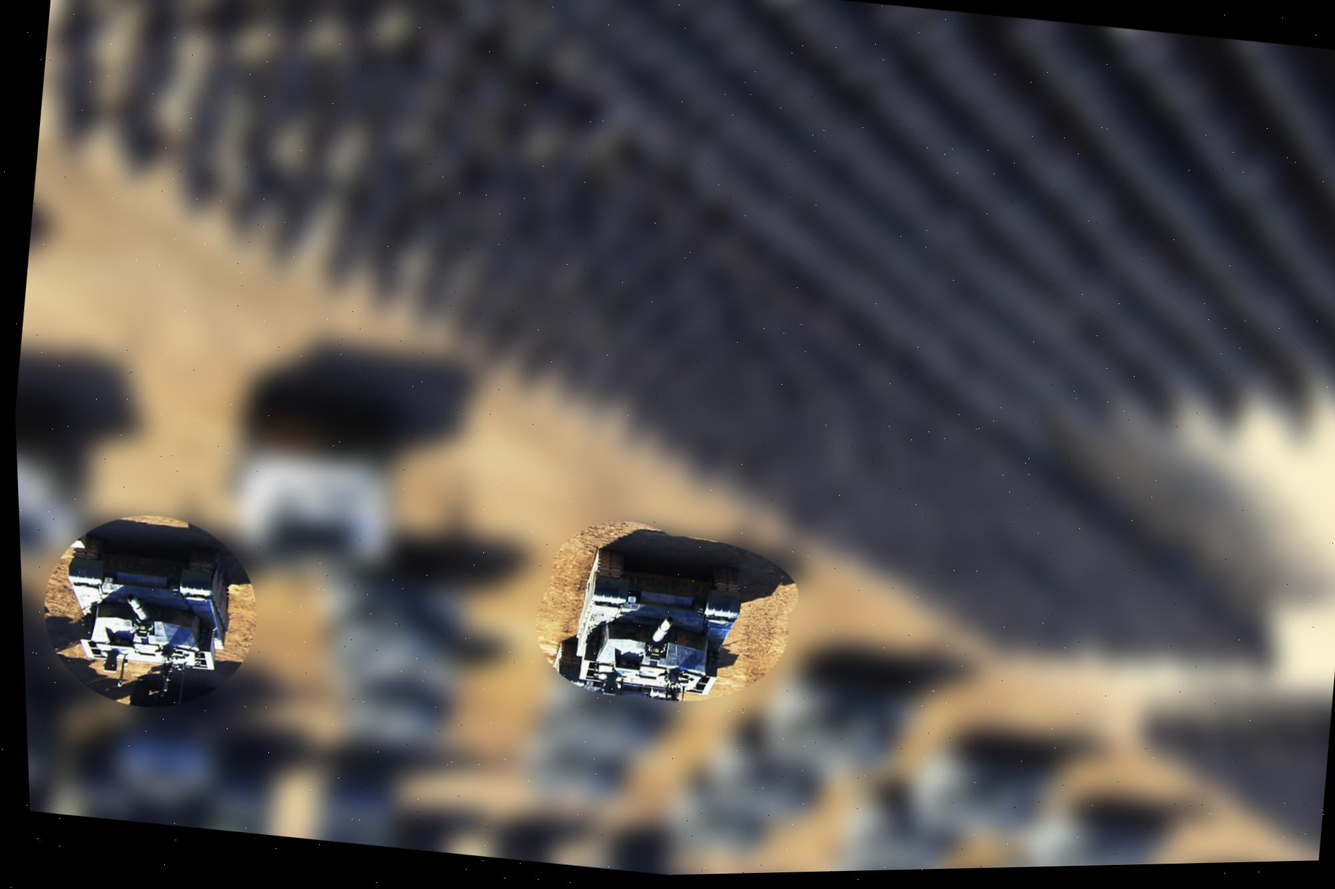tank: (28, 502, 268, 722), (537, 534, 751, 710)
